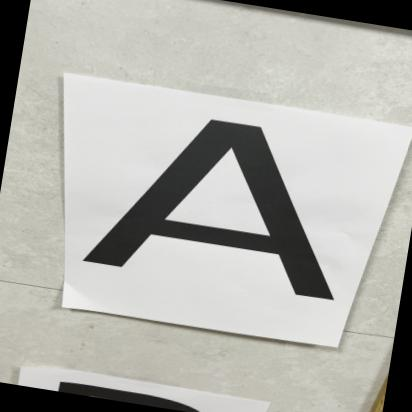seat: (63, 80, 368, 322)
